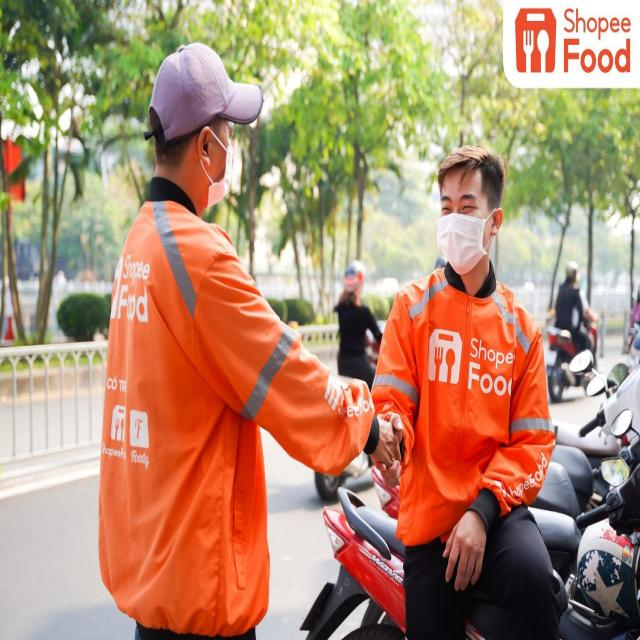Cap: (150, 42, 264, 140)
Face and Hair: (429, 133, 507, 279)
